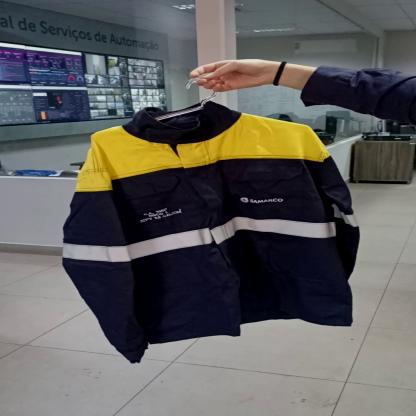C_eletrica: (61, 101, 370, 362)
